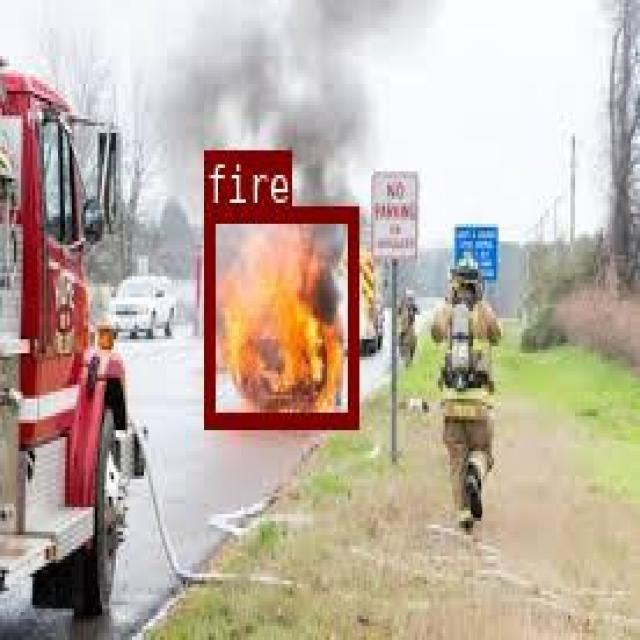fire: (203, 206, 355, 424)
